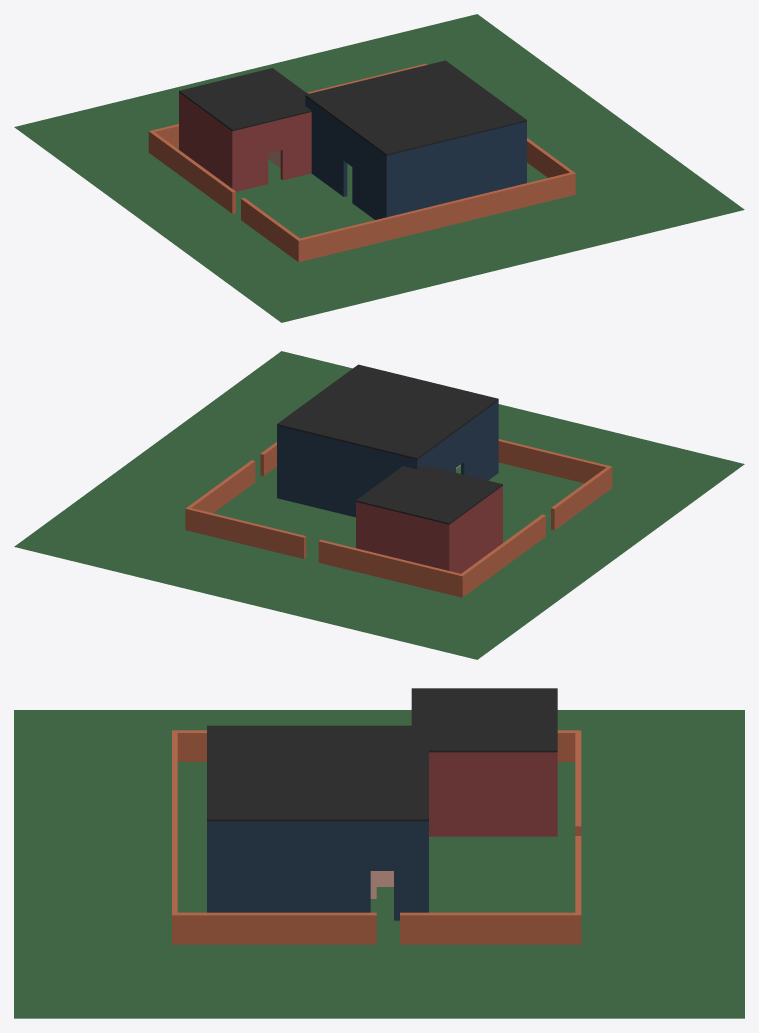
File: Warehouse.fbx
3 views of the same model, one above another, from view 1: azimuth 30°, elevation 25°; view 2: azimuth 150°, elevation 25°; view 3: azimuth 270°, elevation 25° (orthographic). The views are drawn at different scales.
Parts seen in each view (by area): view 1: Plane.003, Plane.002; view 2: Plane.003, Plane.002; view 3: Plane.003, Plane.002.
Part boxes in pixels (x1,y1,x2,y2): Plane.003: [14, 14, 744, 322]; Plane.002: [148, 60, 575, 262]; Plane.003: [14, 351, 744, 659]; Plane.002: [185, 364, 612, 597]; Plane.003: [14, 710, 744, 1018]; Plane.002: [172, 688, 581, 944].
Size of the model in its own units: 100 by 100 by 15.29.
